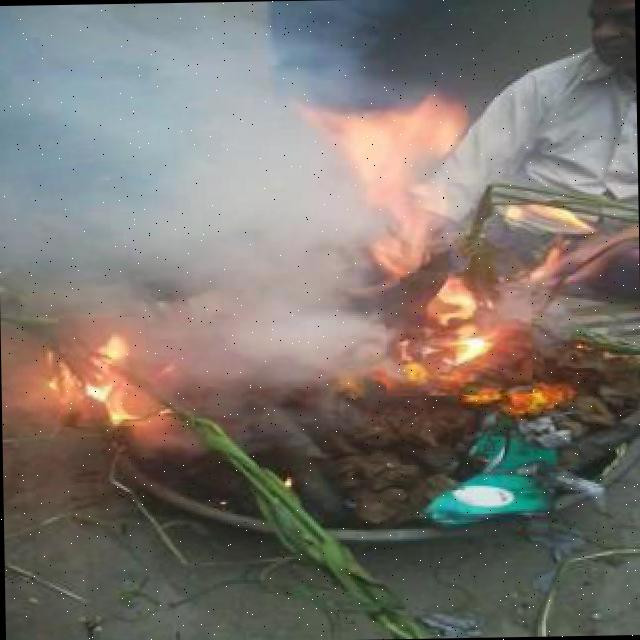fire: (328, 78, 470, 274), (384, 289, 532, 396), (58, 316, 147, 427)
